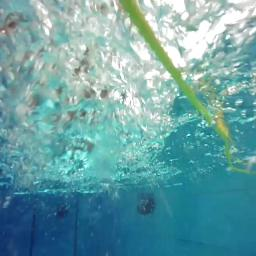Full: (136, 197, 155, 216), (137, 200, 155, 216), (54, 205, 70, 217), (56, 206, 70, 217)
